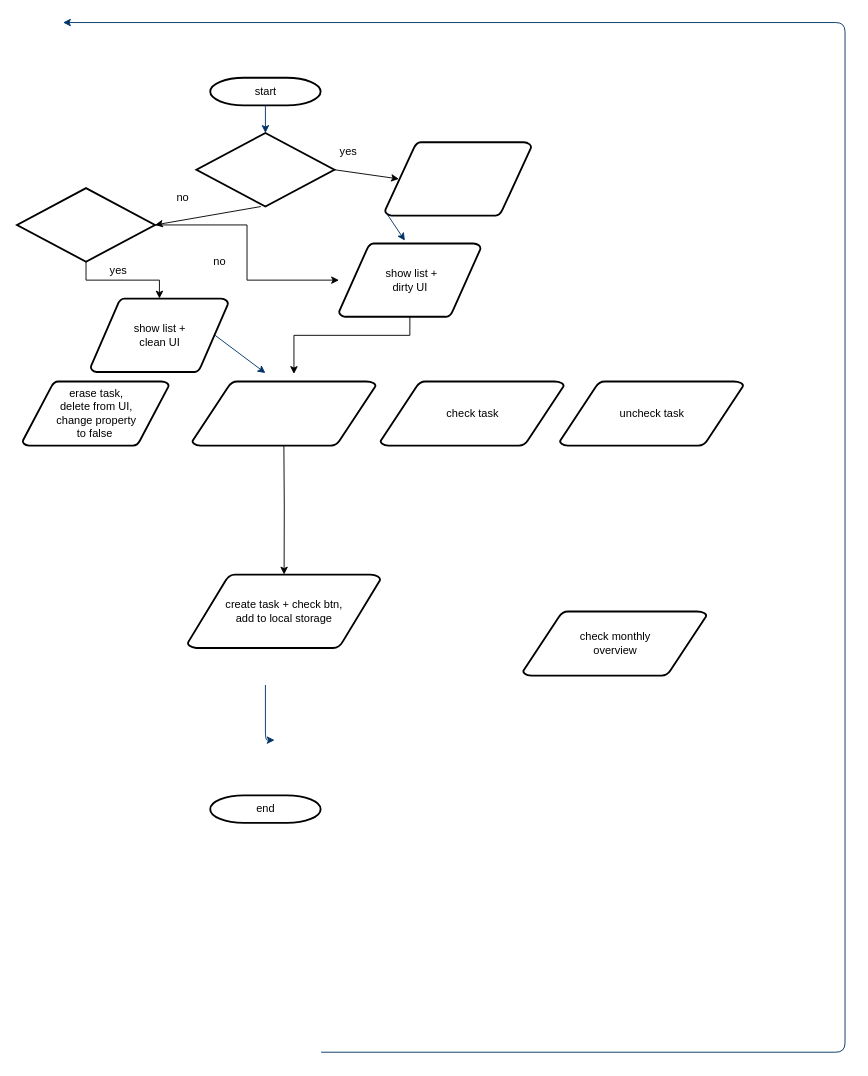
Some shapes in this 868 by 1076 pixel diagram are drawn without their labels. Each missing label, with the centre of its shape:
add task: (283,413)
if localStorage is empty: (265,169)
if task checked today: (85,224)
show welcome page, press start button: (458,178)
